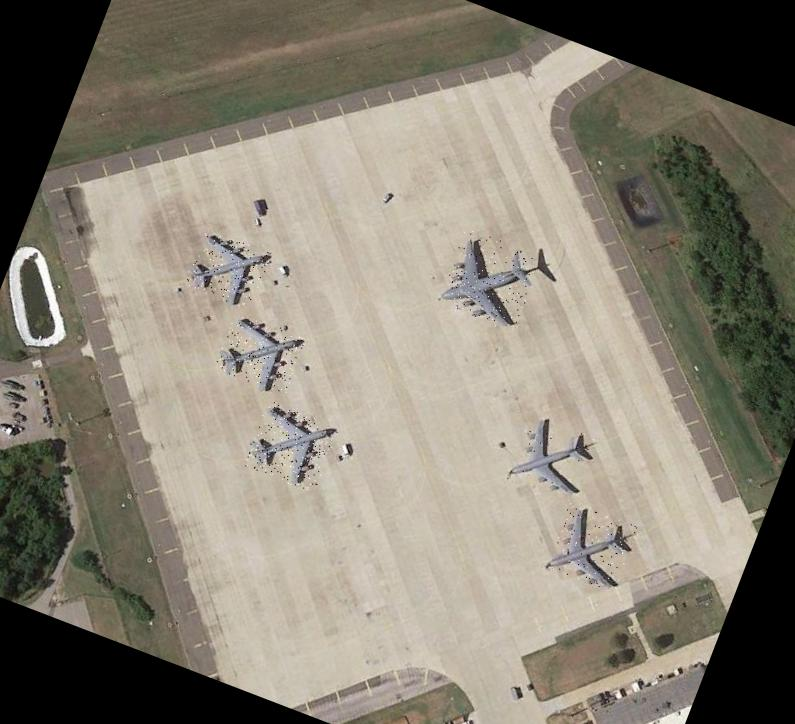A14: (242, 400, 338, 493), (544, 501, 639, 594), (214, 310, 306, 396), (507, 413, 597, 499), (184, 228, 272, 310)
A3: (436, 228, 542, 334)
